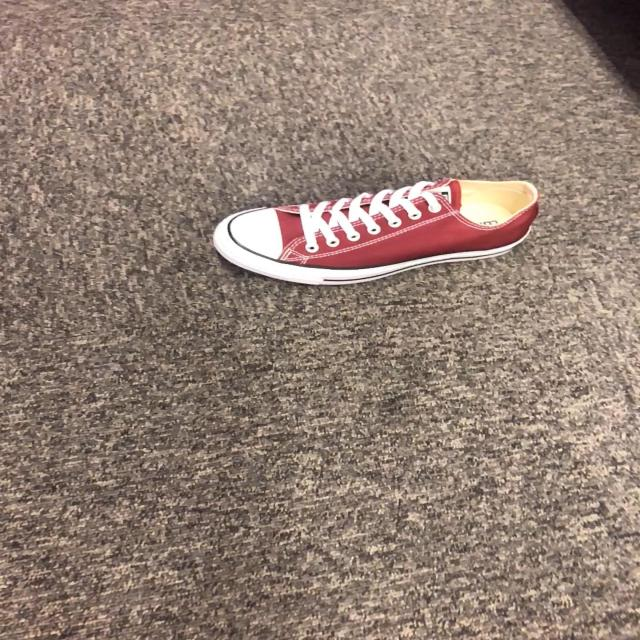shoe: (212, 178, 541, 288)
